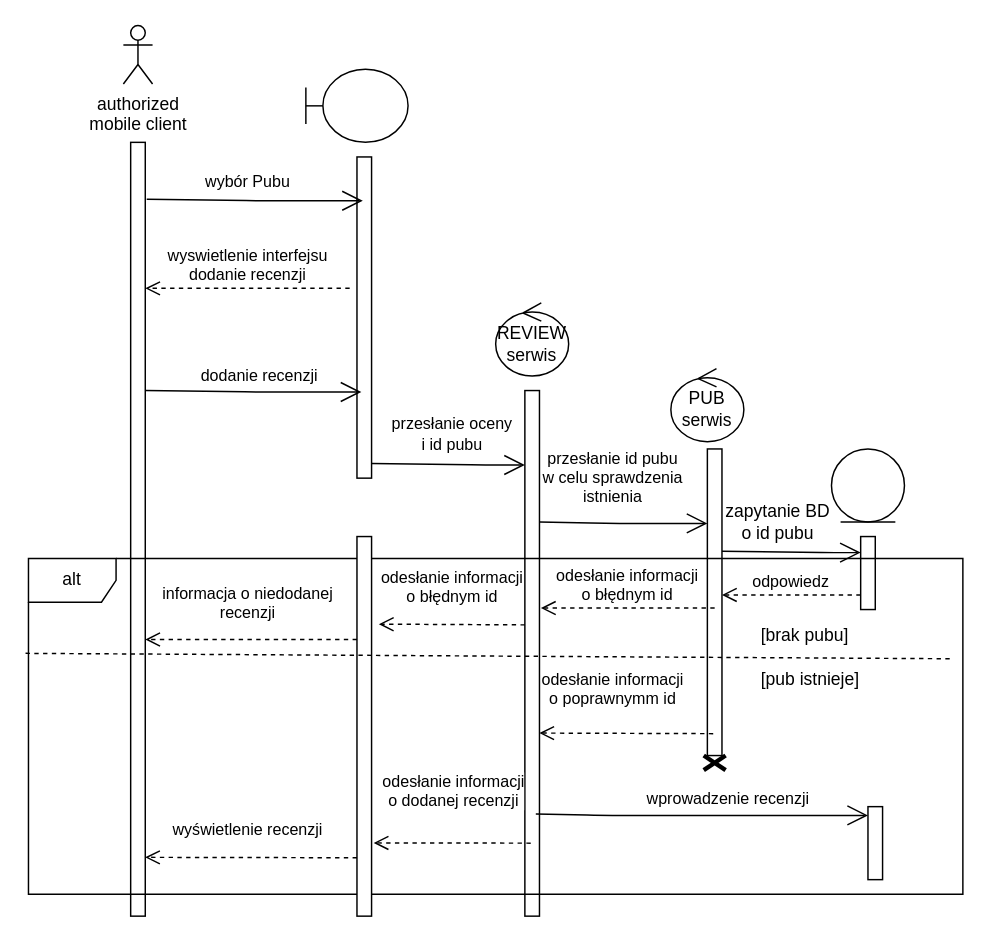
Image size: 988x942. Some labels were removed from this diagram. Each missing label, with the centre of its shape:
"baza danych" belongs at [867,484].
"JS client service" belongs at [356,105].
